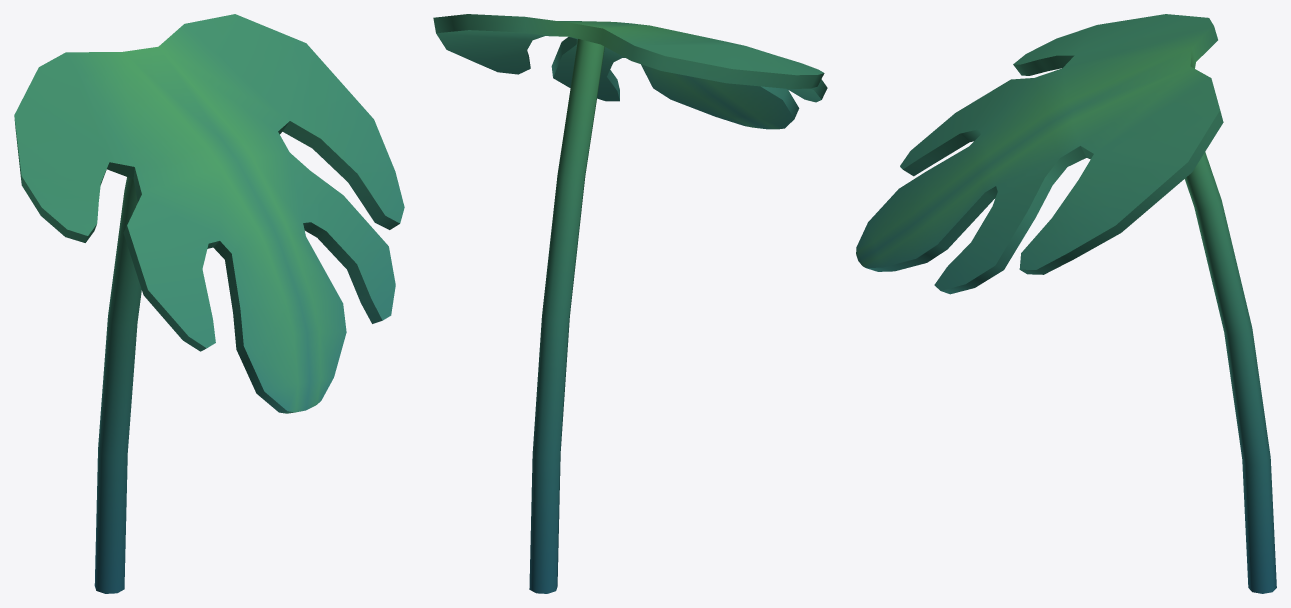
Rendered from Monstera Leaf-cZEJIpDBEP.glb.
3 renders of one model, left to right at view 1: azimuth 30°, elevation 25°; view 2: azimuth 150°, elevation 25°; view 3: azimuth 270°, elevation 25°, orthographic. The views are drawn at different scales.
Parts seen in each view (by area): view 1: monstera_leaf_medium_B; view 2: monstera_leaf_medium_B; view 3: monstera_leaf_medium_B.
Part boxes in pixels (bbox=[...]): monstera_leaf_medium_B: bbox=[14, 14, 404, 593]; monstera_leaf_medium_B: bbox=[433, 14, 827, 593]; monstera_leaf_medium_B: bbox=[856, 14, 1276, 593].
Size of the model in its own units: 0.6822 by 1.02 by 0.736.
Materials: 1 (1 with a texture image).
